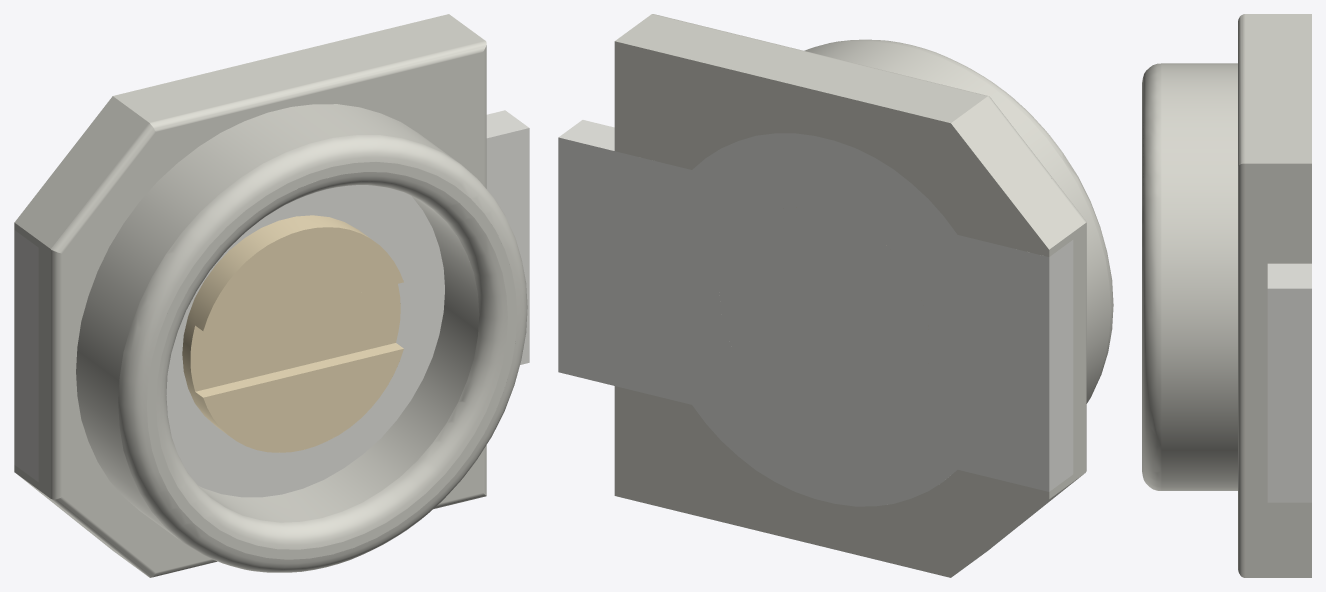
The model's file is C_Trimmer_Voltronics_JR.glb.
The picture shows the model from 3 angles, left to right: view 1: azimuth 30°, elevation 25°; view 2: azimuth 150°, elevation 25°; view 3: azimuth 270°, elevation 25°; orthographic projection. The views are drawn at different scales.
Visible parts, largest first — view 1: Shape_IndexedFaceSet.012, Shape_IndexedFaceSet.010, Shape_IndexedFaceSet.011, Shape_IndexedFaceSet.004, Shape_IndexedFaceSet.008, Shape_IndexedFaceSet.007, Shape_IndexedFaceSet, Shape_IndexedFaceSet.020, Shape_IndexedFaceSet.009, Shape_IndexedFaceSet.006, Shape_IndexedFaceSet.005, Shape_IndexedFaceSet.019 (+11 smaller); view 2: Shape_IndexedFaceSet.031, Shape_IndexedFaceSet.034, Shape_IndexedFaceSet.025, Shape_IndexedFaceSet.026, Shape_IndexedFaceSet.032, Shape_IndexedFaceSet.020, Shape_IndexedFaceSet.011, Shape_IndexedFaceSet.019, Shape_IndexedFaceSet.030, Shape_IndexedFaceSet.024, Shape_IndexedFaceSet.010, Shape_IndexedFaceSet.029; view 3: Shape_IndexedFaceSet.011, Shape_IndexedFaceSet.021, Shape_IndexedFaceSet.020, Shape_IndexedFaceSet.033, Shape_IndexedFaceSet.010, Shape_IndexedFaceSet.015, Shape_IndexedFaceSet.014, Shape_IndexedFaceSet.029.
Part boxes in pixels (<box>): Shape_IndexedFaceSet.012: <box>62,52,482,572</box>; Shape_IndexedFaceSet.010: <box>118,135,527,572</box>; Shape_IndexedFaceSet.011: <box>76,104,458,540</box>; Shape_IndexedFaceSet.004: <box>166,185,444,497</box>; Shape_IndexedFaceSet.008: <box>156,172,507,549</box>; Shape_IndexedFaceSet.007: <box>199,189,479,522</box>; Shape_IndexedFaceSet: <box>190,284,400,391</box>; Shape_IndexedFaceSet.020: <box>113,14,484,122</box>; Shape_IndexedFaceSet.009: <box>147,162,517,559</box>; Shape_IndexedFaceSet.006: <box>203,227,403,331</box>; Shape_IndexedFaceSet.005: <box>203,349,403,452</box>; Shape_IndexedFaceSet.019: <box>14,96,148,248</box>; Shape_IndexedFaceSet.031: <box>614,133,1049,506</box>; Shape_IndexedFaceSet.034: <box>719,207,929,432</box>; Shape_IndexedFaceSet.025: <box>614,41,1049,256</box>; Shape_IndexedFaceSet.026: <box>614,386,1049,577</box>; Shape_IndexedFaceSet.032: <box>558,137,614,385</box>; Shape_IndexedFaceSet.020: <box>615,14,986,123</box>; Shape_IndexedFaceSet.011: <box>805,41,1110,402</box>; Shape_IndexedFaceSet.019: <box>951,97,1085,249</box>; Shape_IndexedFaceSet.030: <box>1049,240,1073,491</box>; Shape_IndexedFaceSet.024: <box>1049,223,1085,498</box>; Shape_IndexedFaceSet.010: <box>804,39,1113,403</box>; Shape_IndexedFaceSet.029: <box>559,120,614,150</box>; Shape_IndexedFaceSet.011: <box>1161,63,1237,490</box>; Shape_IndexedFaceSet.021: <box>1245,163,1311,577</box>; Shape_IndexedFaceSet.020: <box>1245,14,1311,163</box>; Shape_IndexedFaceSet.033: <box>1267,288,1311,502</box>; Shape_IndexedFaceSet.010: <box>1142,63,1161,490</box>; Shape_IndexedFaceSet.015: <box>1238,163,1245,577</box>; Shape_IndexedFaceSet.014: <box>1238,14,1245,165</box>; Shape_IndexedFaceSet.029: <box>1267,263,1311,288</box>.
Bounding box in the file's own units: 1.38 × 1.22 × 0.453.
